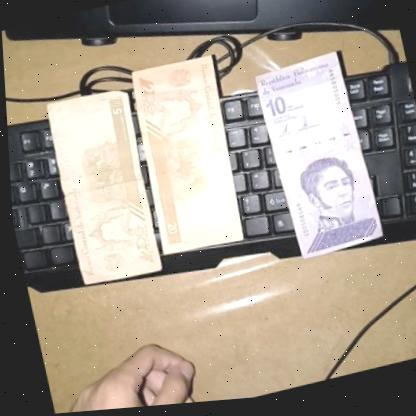five-back-vef: (40, 86, 162, 289)
ten-front-vef: (250, 52, 382, 267)
twenty-back-vef: (124, 54, 250, 261)
